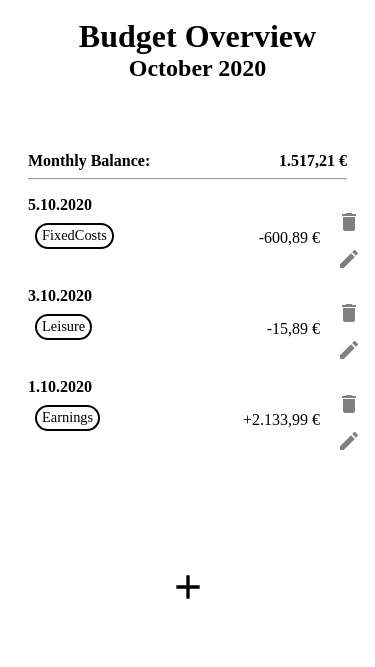
Test: Edit transaction › edits a specific transaction
Expected: the number of list items is 3, [28,196,347,262]; [28,287,347,353]; [28,378,347,444]
Click the 4th button at point(349, 352), box [333,334,365,369]
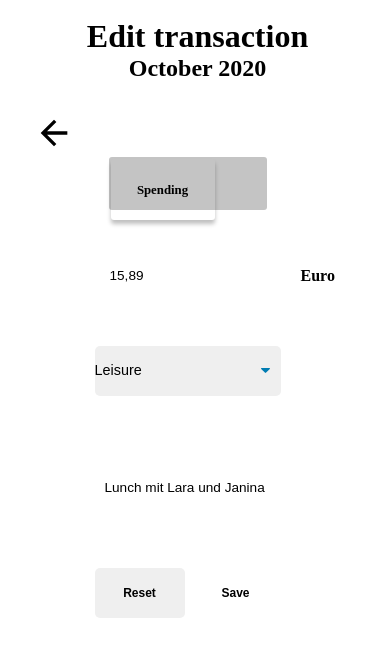
Result: the field labelled "Euro" holds "15,89"
Result: the dropdown with id "dropdown" shows "Leisure" at [95,346,281,396]
Result: the field with id "notes" holds "Lunch mit Lara und Janina" at [95,462,301,512]
Press Del Selectall Backspace in the field labelled "Euro", box [95,250,301,300]
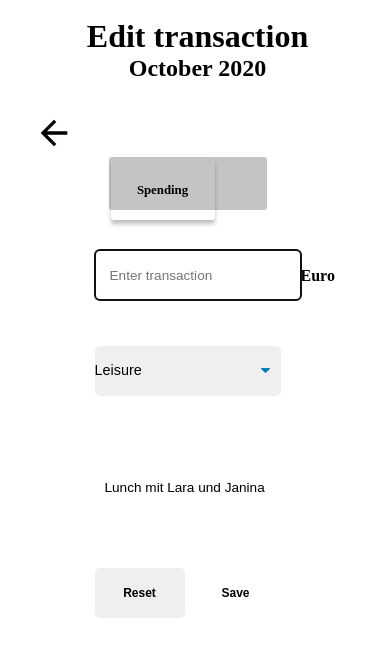
Type "19,32" into the field labelled "Euro" at point(198, 275), box [95,250,301,300]
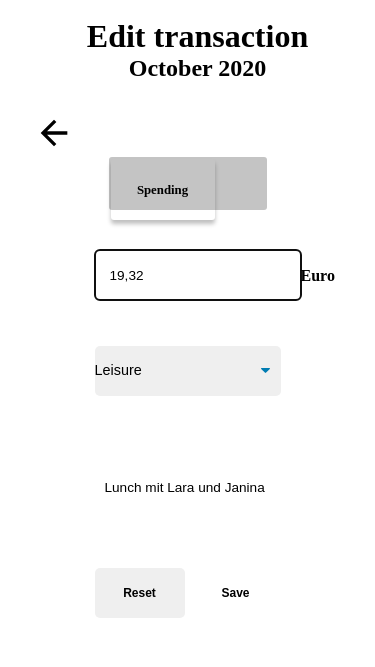
Type ", danach Kaffee" into the field with id "notes" at point(198, 487), box [95,462,301,512]
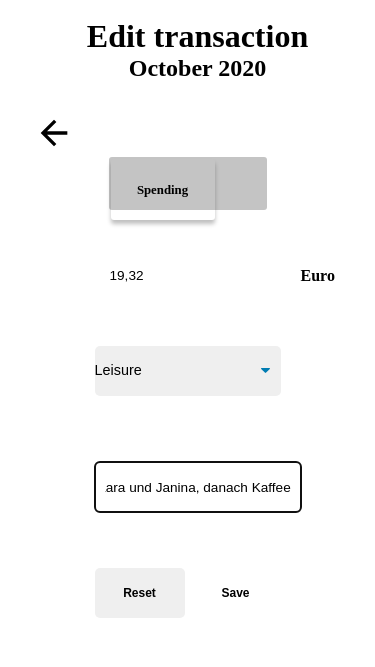
Result: the field with id "notes" holds "Lunch mit Lara und Janina, danach Kaffee" at [95,462,301,512]
Click the button with id "saveBtn" at point(236, 593), box [191,568,281,618]
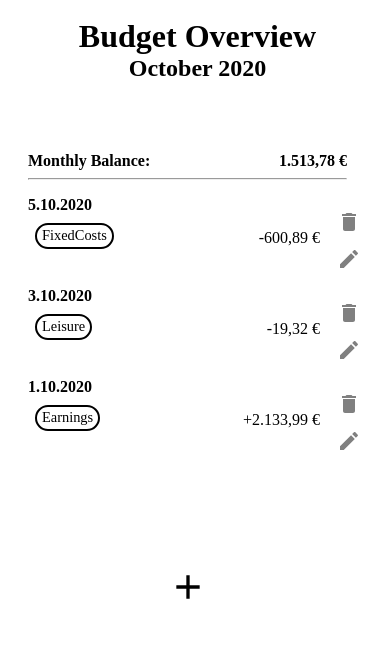
Result: the text with test id "monthlyBudget" shows "1.513,78" at [279,152,347,169]
